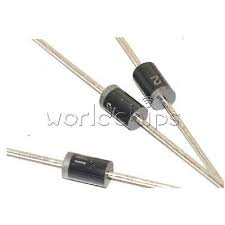diode: (51, 134, 139, 207)
